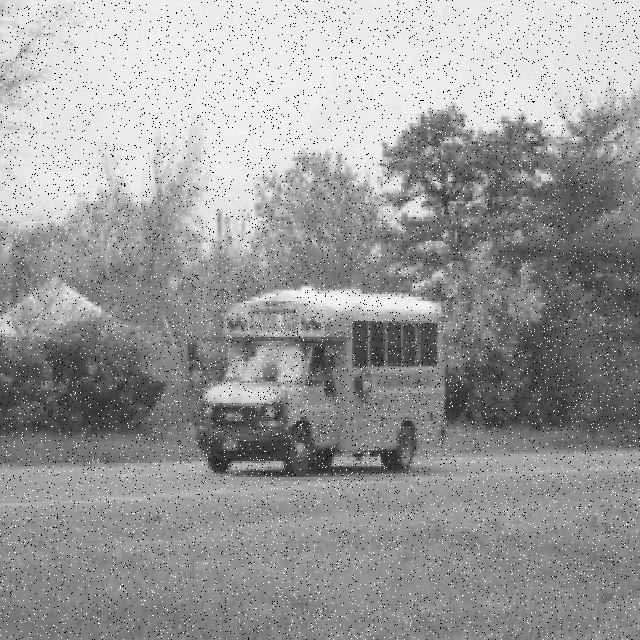Bus- Small: (185, 287, 447, 477)
